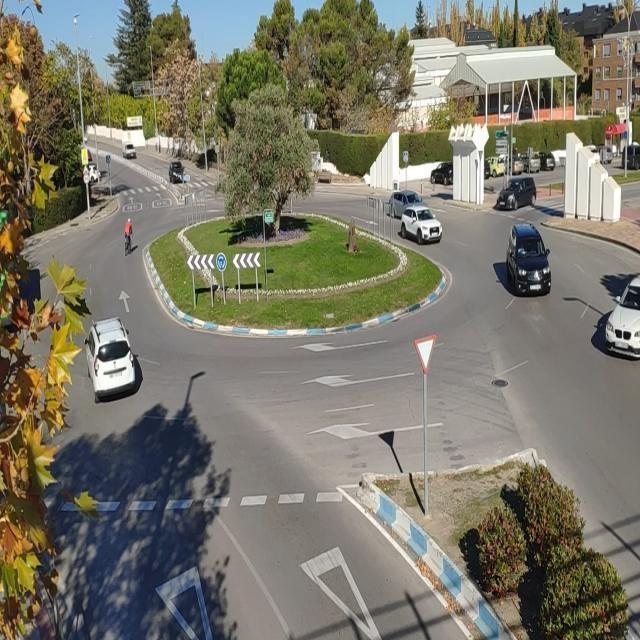Car: (82, 318, 138, 397), (605, 272, 639, 360), (398, 205, 444, 243), (498, 177, 538, 211), (387, 191, 426, 215), (168, 161, 185, 184)
Van: (508, 222, 552, 294), (122, 143, 137, 158)
